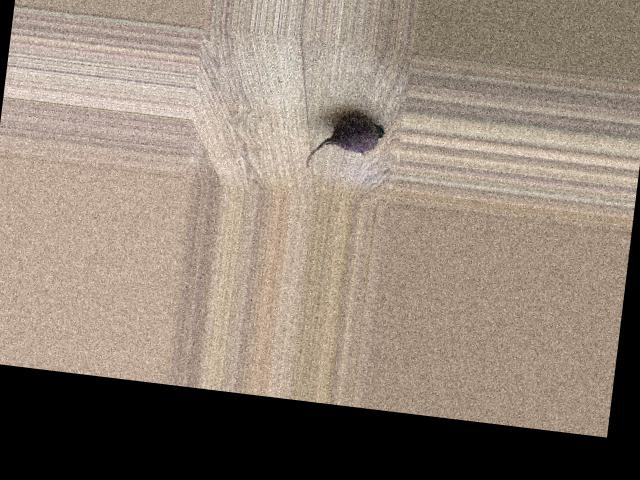beet: (304, 111, 384, 176)
